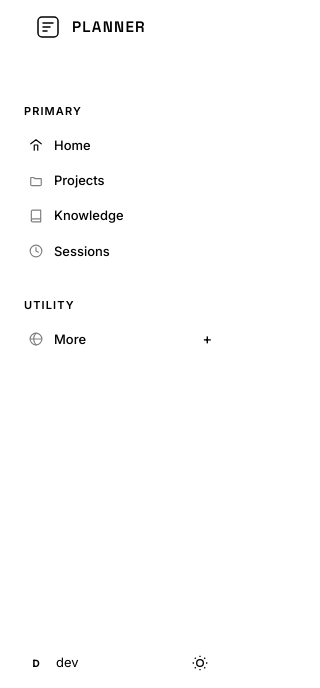
Test: Layout › reveals utility routes from the More control
The width and height of the screenshot is (320, 688).
Click the button "More +" at (120, 339), box [16,322,224,357]
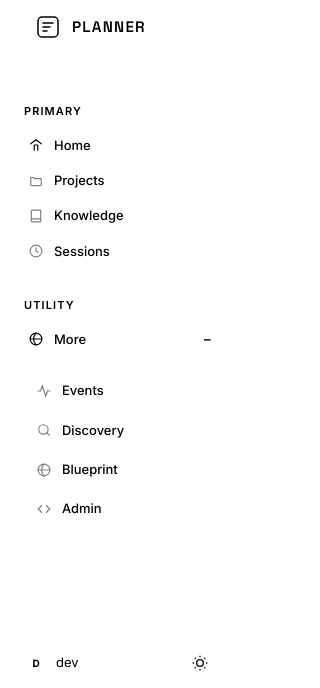
Result: the link "Admin" is shown at [37,500,102,516]
Result: the link "Events" is shown at [37,382,104,398]
Result: the link "Blueprint" is shown at [37,461,118,477]
